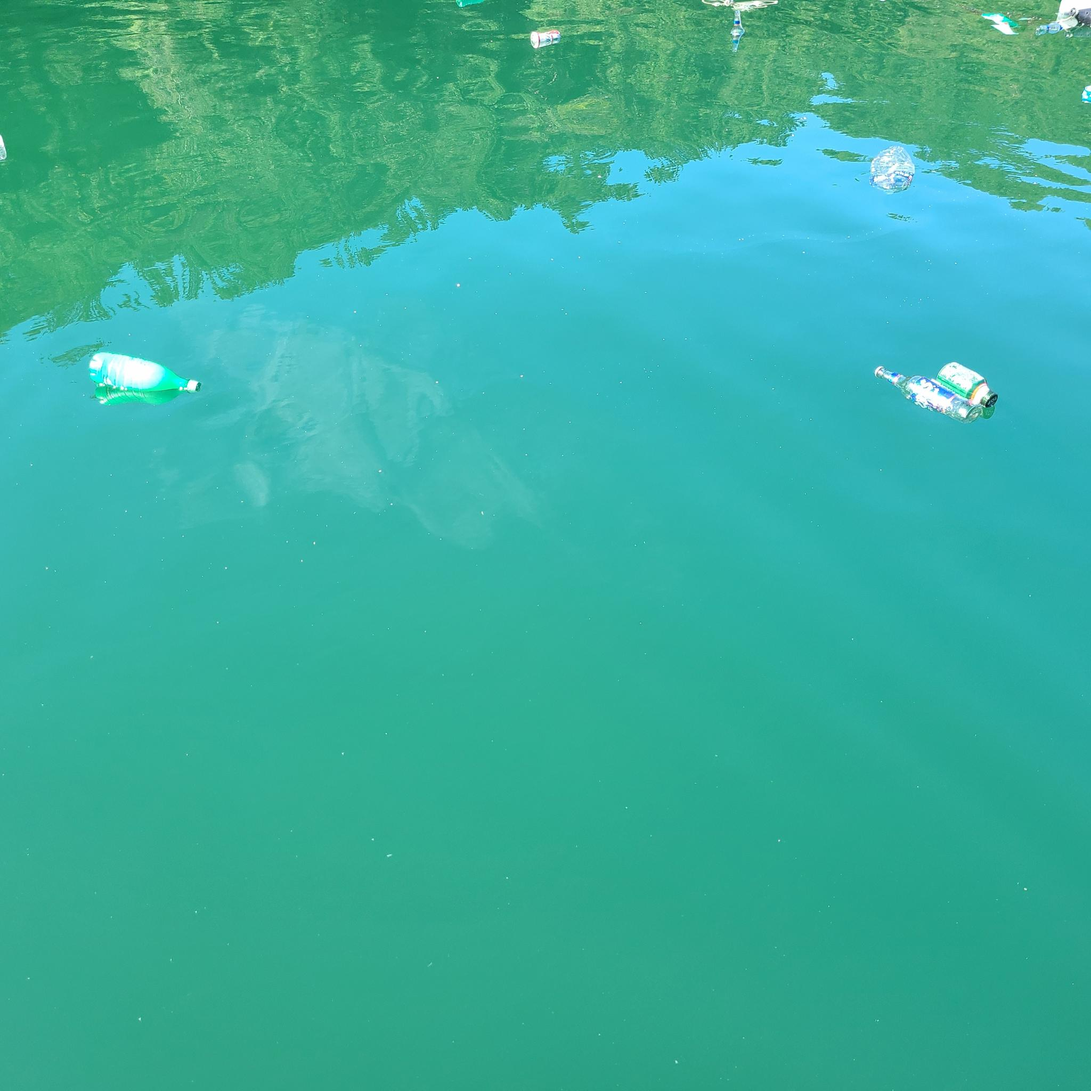sampah_terapung: (875, 367, 984, 424), (90, 352, 202, 394), (937, 363, 999, 409), (870, 146, 915, 196), (1069, 8, 1091, 27), (731, 10, 746, 34), (531, 31, 561, 42), (1040, 22, 1064, 32)
